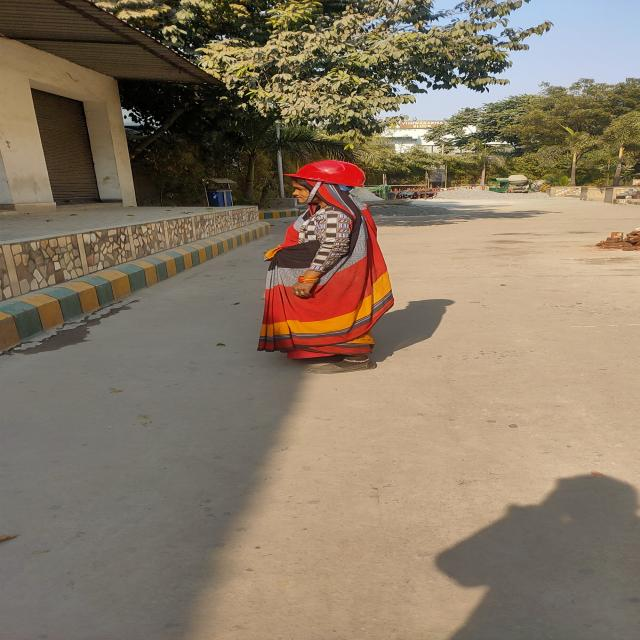no jacket: (264, 160, 395, 374)
